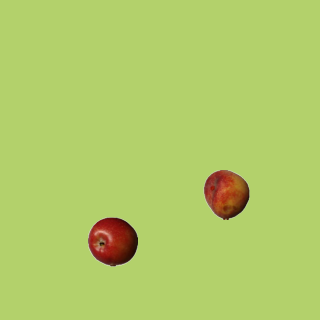Apple Braeburn: (87, 216, 137, 266)
Peach: (201, 169, 251, 219)
